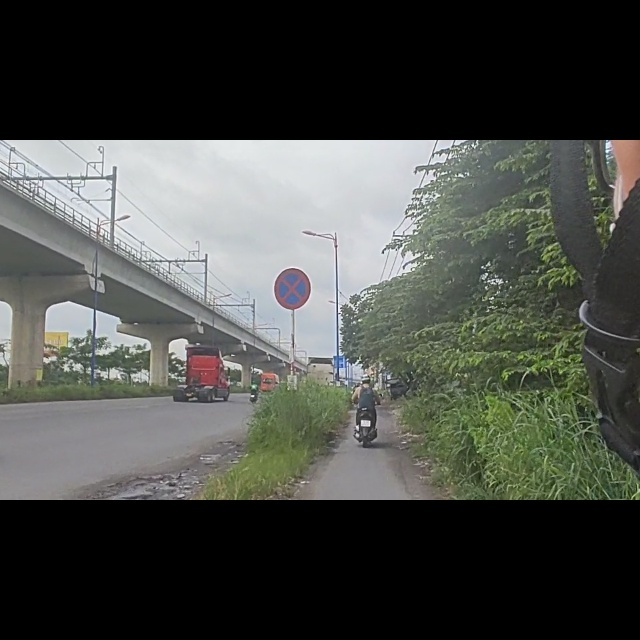bien_cam: (271, 224, 315, 305)
